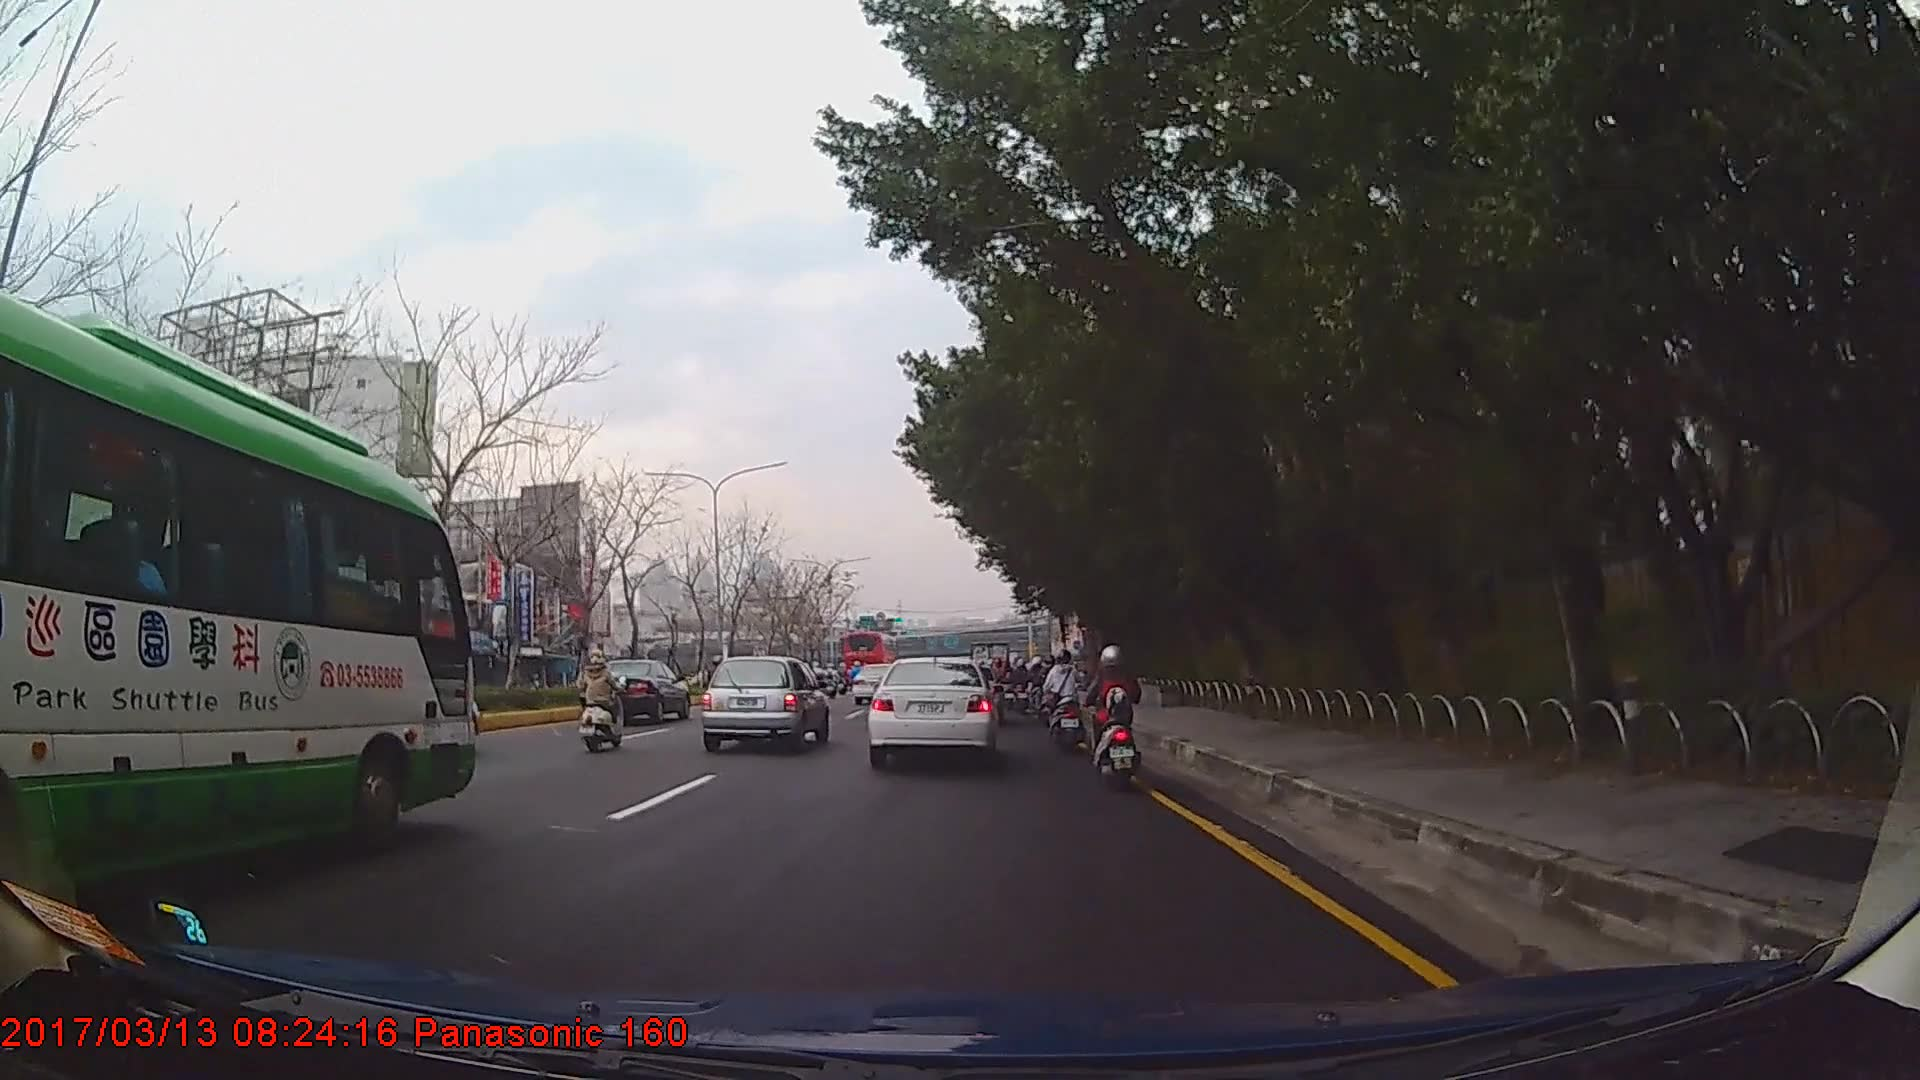rider: (1089, 646, 1148, 786), (582, 648, 627, 755), (1045, 647, 1089, 755), (1040, 656, 1061, 740)
vehicle: (0, 282, 478, 908), (865, 659, 999, 767), (697, 653, 831, 752), (583, 658, 690, 727), (842, 629, 900, 686)
